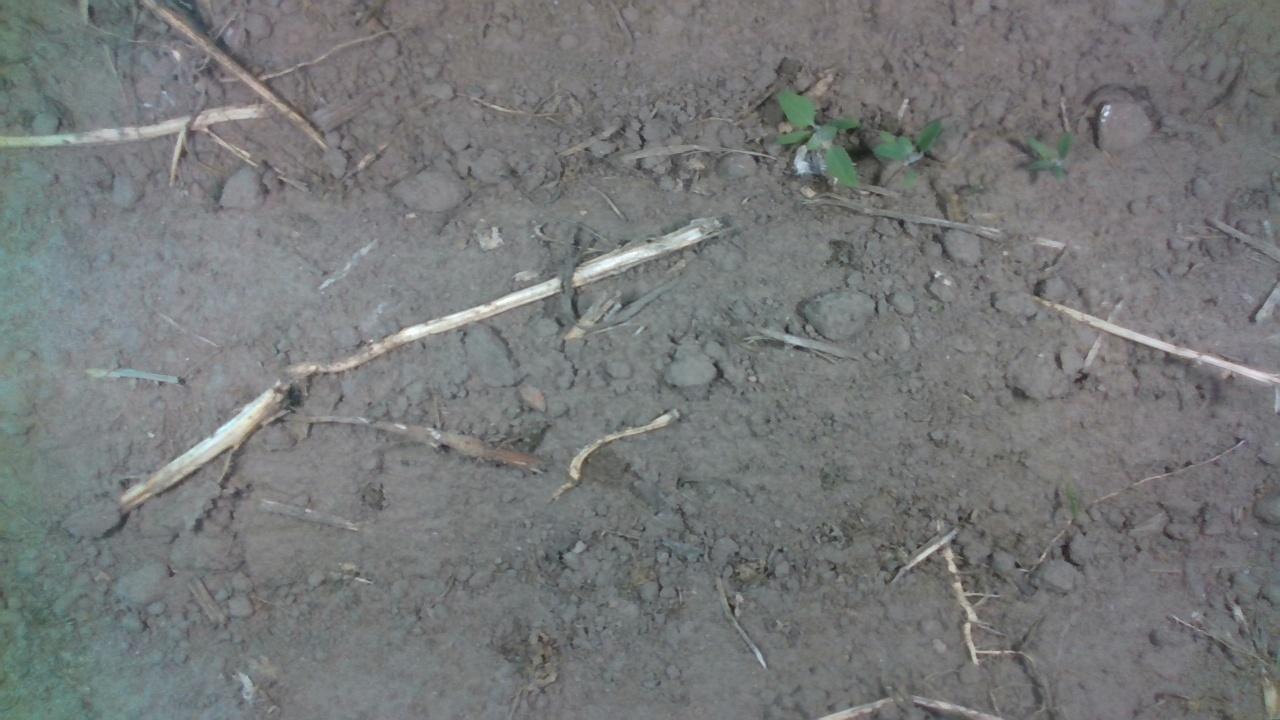weed: (772, 87, 862, 191), (1017, 125, 1071, 183)
